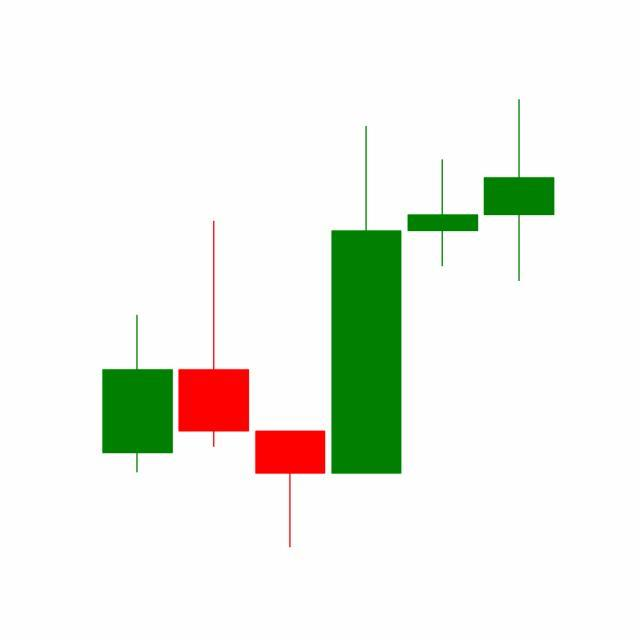Spinning Top: (404, 159, 482, 269)
